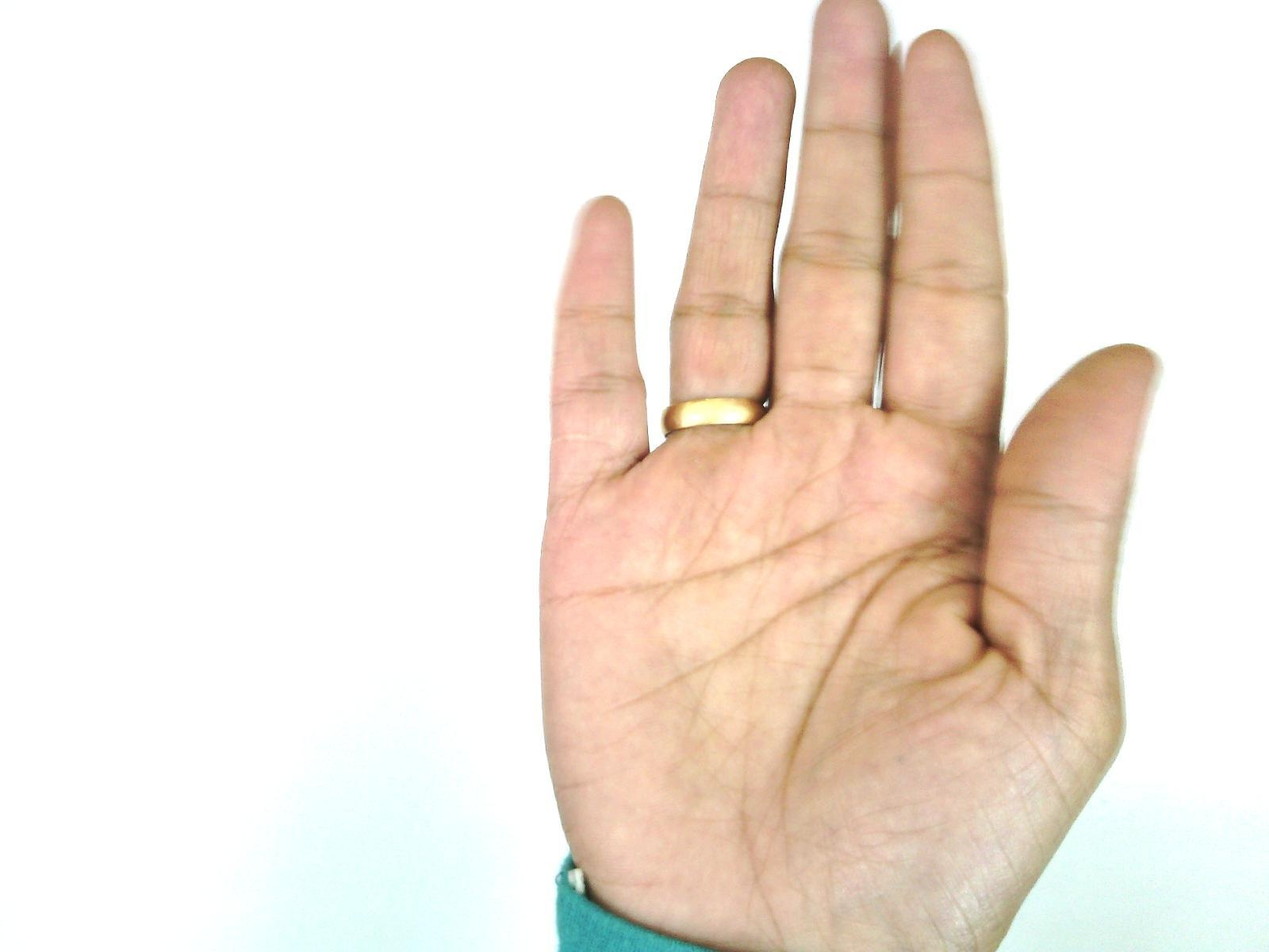open_palm: (535, 4, 1165, 951)
